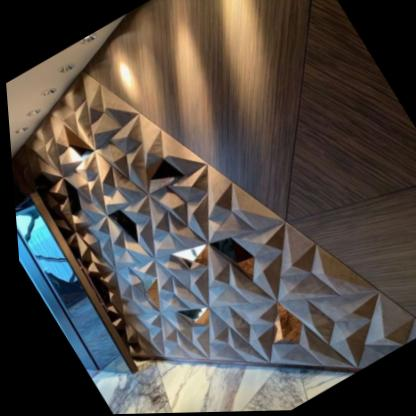Futech tiles: (42, 114, 401, 354)
